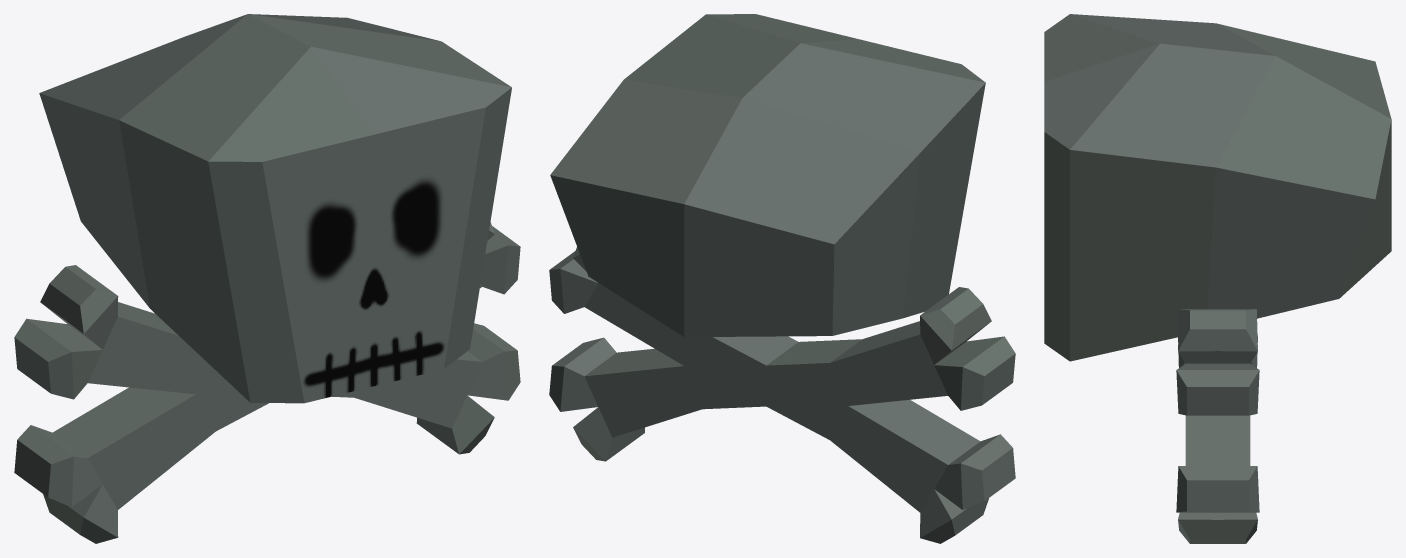
File: Skull.fbx
3 views of the same model, side by side, from view 1: azimuth 30°, elevation 25°; view 2: azimuth 150°, elevation 25°; view 3: azimuth 270°, elevation 25° (orthographic). The views are drawn at different scales.
Visible parts, largest first — view 1: Skull, Skull.001; view 2: Skull, Skull.001; view 3: Skull, Skull.001.
Part boxes in pixels (box(x1,y1,x2,y2)): Skull: box(39, 14, 511, 403); Skull.001: box(14, 222, 520, 543); Skull: box(550, 14, 985, 337); Skull.001: box(549, 247, 1015, 543); Skull: box(1044, 14, 1391, 361); Skull.001: box(1176, 309, 1259, 543).
Size of the model in its own units: 1.05 by 0.9738 by 0.7256.
